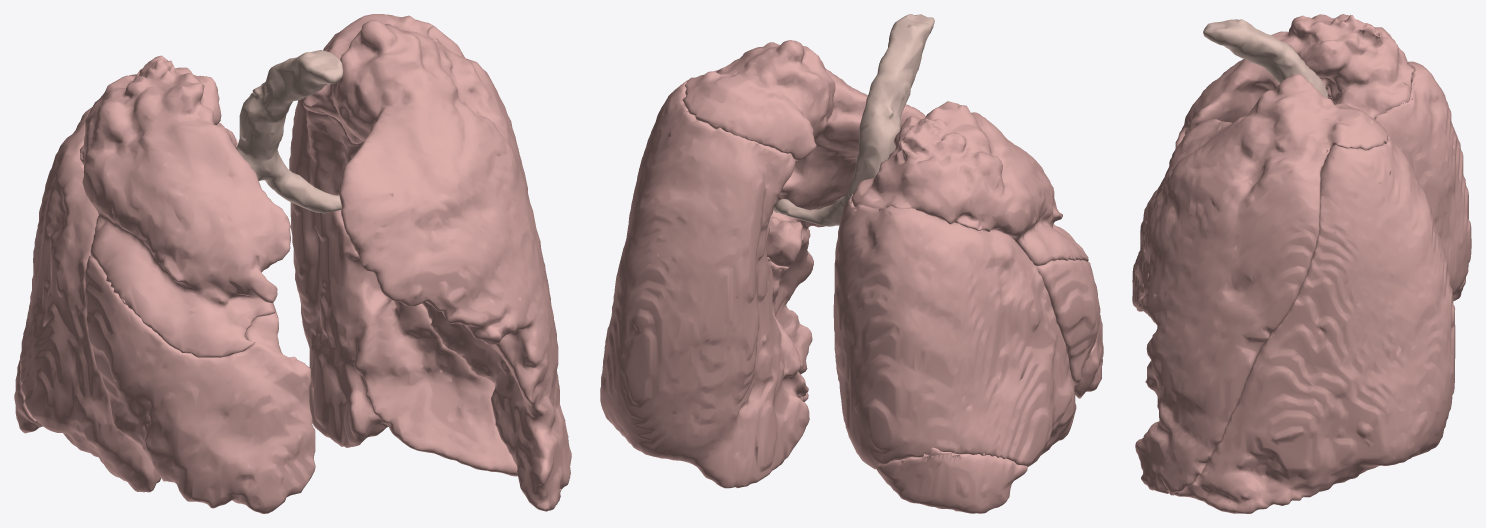
The model's file is tsd_s0327_older_adult_male.respiratory.LOD1.glb.
3 renders of one model, left to right at view 1: azimuth 30°, elevation 25°; view 2: azimuth 150°, elevation 25°; view 3: azimuth 270°, elevation 25°, orthographic. The views are drawn at different scales.
Parts seen in each view (by area): view 1: TSD_S0327.OLDER_ADULT.MALE.RESPIRATORY.SUPERIOR_LOBE_OF_LEFT, TSD_S0327.OLDER_ADULT.MALE.RESPIRATORY.SUPERIOR_LOBE_OF_RIGH, TSD_S0327.OLDER_ADULT.MALE.RESPIRATORY.INFERIOR_LOBE_OF_LEFT, TSD_S0327.OLDER_ADULT.MALE.RESPIRATORY.MIDDLE_LOBE_OF_RIGHT_, TSD_S0327.OLDER_ADULT.MALE.RESPIRATORY.INFERIOR_LOBE_OF_RIGH, TSD_S0327.OLDER_ADULT.MALE.RESPIRATORY.TRACHEA; view 2: TSD_S0327.OLDER_ADULT.MALE.RESPIRATORY.INFERIOR_LOBE_OF_LEFT, TSD_S0327.OLDER_ADULT.MALE.RESPIRATORY.INFERIOR_LOBE_OF_RIGH, TSD_S0327.OLDER_ADULT.MALE.RESPIRATORY.SUPERIOR_LOBE_OF_LEFT, TSD_S0327.OLDER_ADULT.MALE.RESPIRATORY.SUPERIOR_LOBE_OF_RIGH, TSD_S0327.OLDER_ADULT.MALE.RESPIRATORY.MIDDLE_LOBE_OF_RIGHT_, TSD_S0327.OLDER_ADULT.MALE.RESPIRATORY.TRACHEA; view 3: TSD_S0327.OLDER_ADULT.MALE.RESPIRATORY.INFERIOR_LOBE_OF_LEFT, TSD_S0327.OLDER_ADULT.MALE.RESPIRATORY.SUPERIOR_LOBE_OF_LEFT, TSD_S0327.OLDER_ADULT.MALE.RESPIRATORY.SUPERIOR_LOBE_OF_RIGH, TSD_S0327.OLDER_ADULT.MALE.RESPIRATORY.INFERIOR_LOBE_OF_RIGH, TSD_S0327.OLDER_ADULT.MALE.RESPIRATORY.TRACHEA, TSD_S0327.OLDER_ADULT.MALE.RESPIRATORY.MIDDLE_LOBE_OF_RIGHT_.
Part boxes in pixels (<box>): TSD_S0327.OLDER_ADULT.MALE.RESPIRATORY.SUPERIOR_LOBE_OF_LEFT: <box>302,14,571,511</box>; TSD_S0327.OLDER_ADULT.MALE.RESPIRATORY.SUPERIOR_LOBE_OF_RIGH: <box>80,55,290,357</box>; TSD_S0327.OLDER_ADULT.MALE.RESPIRATORY.INFERIOR_LOBE_OF_LEFT: <box>289,25,570,492</box>; TSD_S0327.OLDER_ADULT.MALE.RESPIRATORY.MIDDLE_LOBE_OF_RIGHT_: <box>14,255,315,513</box>; TSD_S0327.OLDER_ADULT.MALE.RESPIRATORY.INFERIOR_LOBE_OF_RIGH: <box>20,107,282,492</box>; TSD_S0327.OLDER_ADULT.MALE.RESPIRATORY.TRACHEA: <box>236,50,343,213</box>; TSD_S0327.OLDER_ADULT.MALE.RESPIRATORY.INFERIOR_LOBE_OF_LEFT: <box>600,80,809,488</box>; TSD_S0327.OLDER_ADULT.MALE.RESPIRATORY.INFERIOR_LOBE_OF_RIGH: <box>833,194,1076,469</box>; TSD_S0327.OLDER_ADULT.MALE.RESPIRATORY.SUPERIOR_LOBE_OF_LEFT: <box>682,40,925,373</box>; TSD_S0327.OLDER_ADULT.MALE.RESPIRATORY.SUPERIOR_LOBE_OF_RIGH: <box>851,101,1088,266</box>; TSD_S0327.OLDER_ADULT.MALE.RESPIRATORY.MIDDLE_LOBE_OF_RIGHT_: <box>877,259,1103,513</box>; TSD_S0327.OLDER_ADULT.MALE.RESPIRATORY.TRACHEA: <box>773,14,934,226</box>; TSD_S0327.OLDER_ADULT.MALE.RESPIRATORY.INFERIOR_LOBE_OF_LEFT: <box>1169,134,1455,513</box>; TSD_S0327.OLDER_ADULT.MALE.RESPIRATORY.SUPERIOR_LOBE_OF_LEFT: <box>1135,74,1388,493</box>; TSD_S0327.OLDER_ADULT.MALE.RESPIRATORY.SUPERIOR_LOBE_OF_RIGH: <box>1175,14,1414,148</box>; TSD_S0327.OLDER_ADULT.MALE.RESPIRATORY.INFERIOR_LOBE_OF_RIGH: <box>1375,61,1471,294</box>; TSD_S0327.OLDER_ADULT.MALE.RESPIRATORY.TRACHEA: <box>1203,19,1327,97</box>; TSD_S0327.OLDER_ADULT.MALE.RESPIRATORY.MIDDLE_LOBE_OF_RIGHT_: <box>1132,186,1465,311</box>.
Bounding box in the file's own units: 0.2452 × 0.2371 × 0.1857.
